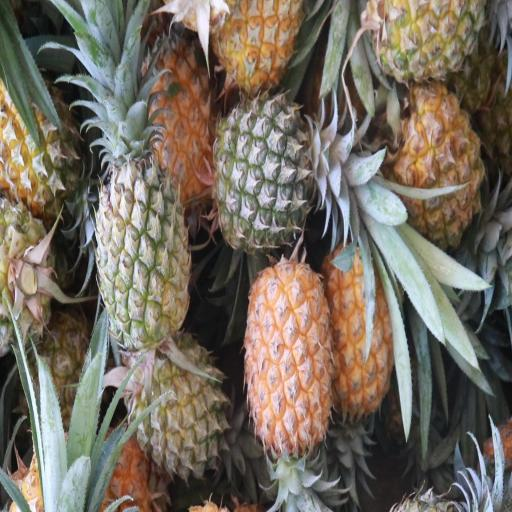------------------------------: (95, 145, 188, 342), (134, 342, 224, 475), (374, 0, 488, 79)
Pineapple - v8 v1: (245, 260, 330, 447), (392, 84, 480, 234), (142, 39, 218, 199), (328, 245, 398, 405)
